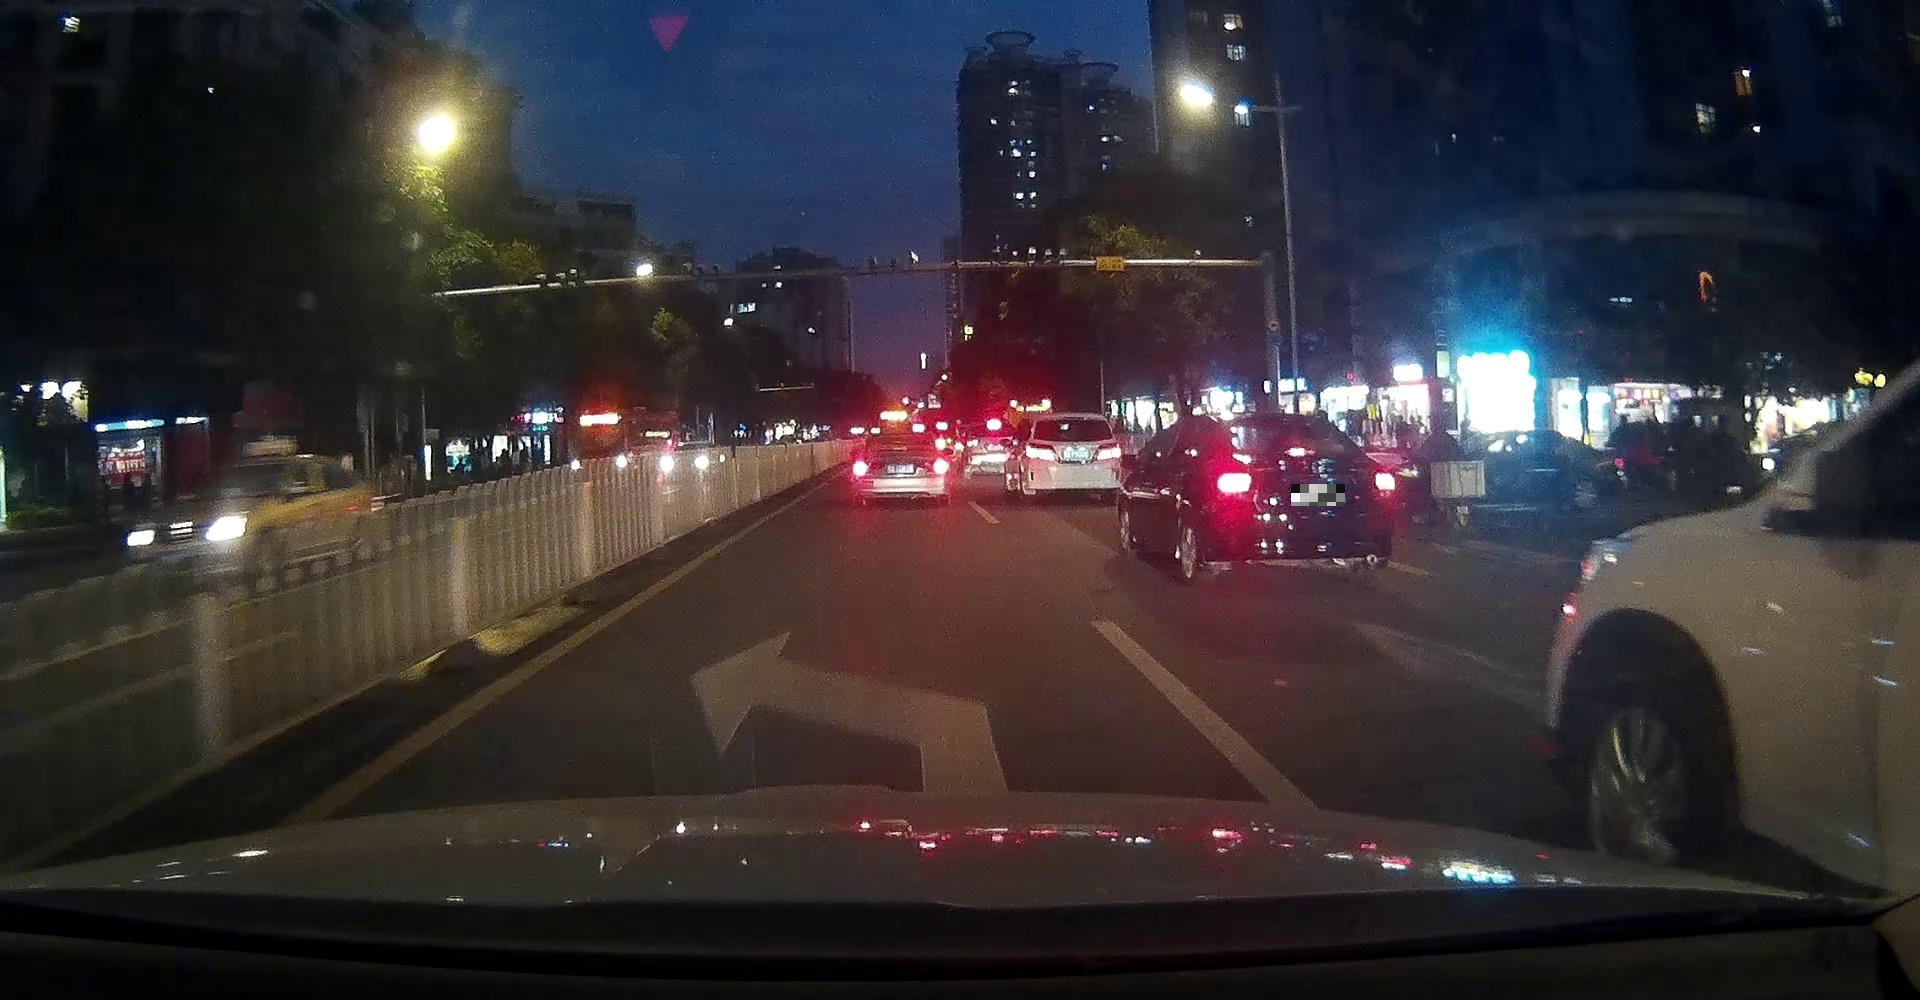L_light: (1215, 470, 1260, 499), (1023, 442, 1059, 463), (852, 461, 869, 478)
R_light: (1371, 467, 1397, 500), (1091, 442, 1123, 459), (931, 456, 950, 476)
T_light: (1285, 448, 1307, 456), (1059, 416, 1086, 421), (895, 435, 913, 439)
night-brake: (1203, 411, 1397, 571)
night-no: (1023, 412, 1123, 504), (852, 434, 950, 506)
plate_1: (1291, 484, 1345, 506)
